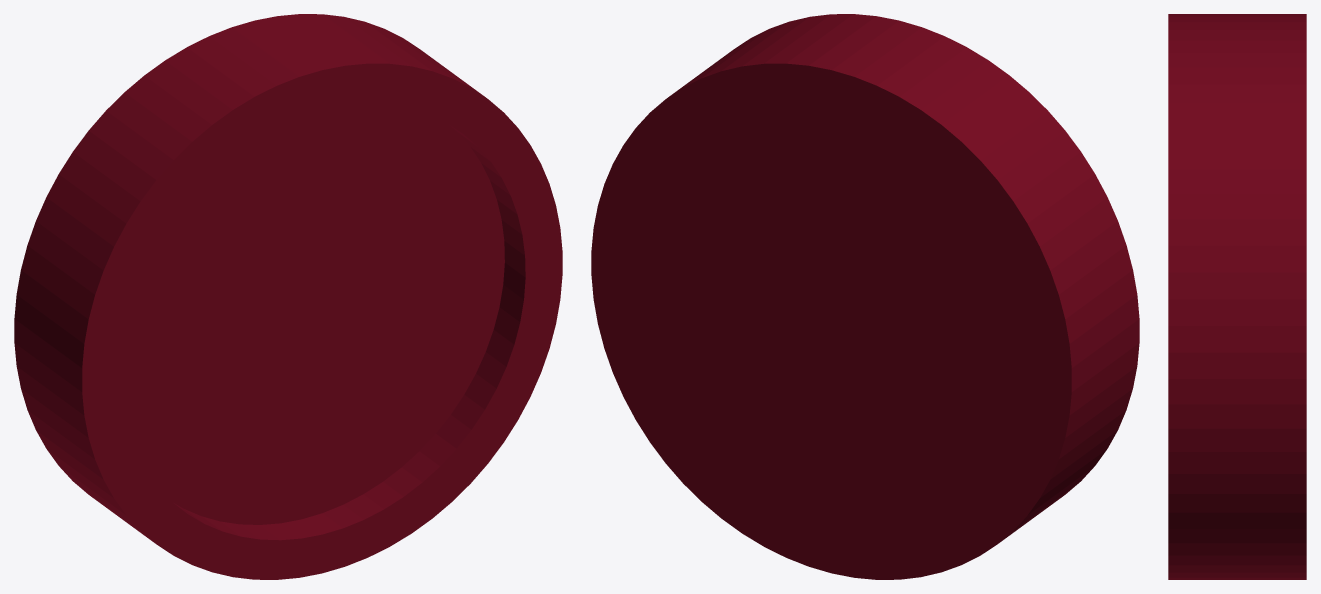
The model's file is Cap_NoThreads.obj.
The picture shows the model from 3 angles, left to right: view 1: azimuth 30°, elevation 25°; view 2: azimuth 150°, elevation 25°; view 3: azimuth 270°, elevation 25°; orthographic projection. The views are drawn at different scales.
Visible parts, largest first — view 1: Cap_NoThreads; view 2: Cap_NoThreads; view 3: Cap_NoThreads.
Boxes of the visible parts, box(x1,y1,x2,y2) form: Cap_NoThreads: box(14, 14, 562, 579); Cap_NoThreads: box(591, 14, 1139, 579); Cap_NoThreads: box(1168, 14, 1306, 579).
Size of the model in its own units: 2.67 by 2.68 by 0.6535.
